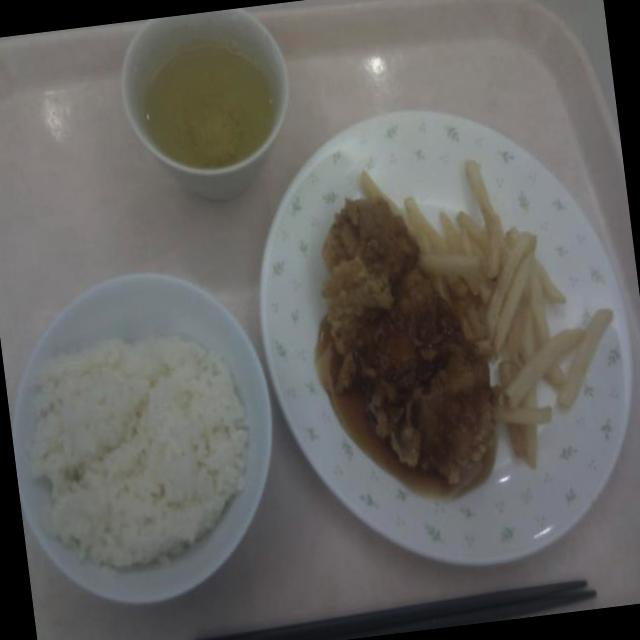Rice: (13, 310, 258, 587)
